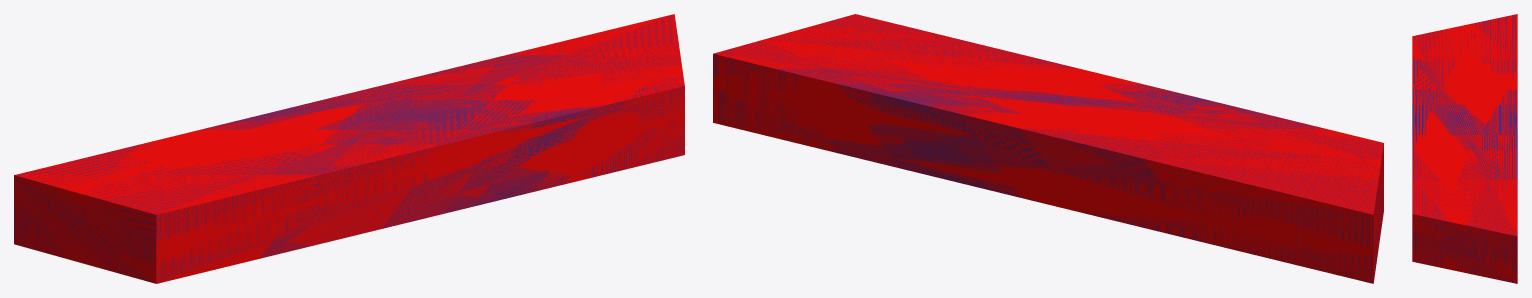
Rendered from bay_roof_2.fbx.
3 renders of one model, left to right at view 1: azimuth 30°, elevation 25°; view 2: azimuth 150°, elevation 25°; view 3: azimuth 270°, elevation 25°, orthographic. The views are drawn at different scales.
Visible parts, largest first — view 1: Mesh1_Model; view 2: Mesh1_Model; view 3: Mesh1_Model.
Part boxes in pixels (x1=…): Mesh1_Model: x1=14, y1=14, x2=684, y2=283; Mesh1_Model: x1=713, y1=14, x2=1383, y2=283; Mesh1_Model: x1=1412, y1=14, x2=1517, y2=283.
Size of the model in its own units: 1 by 0.1 by 0.2.
